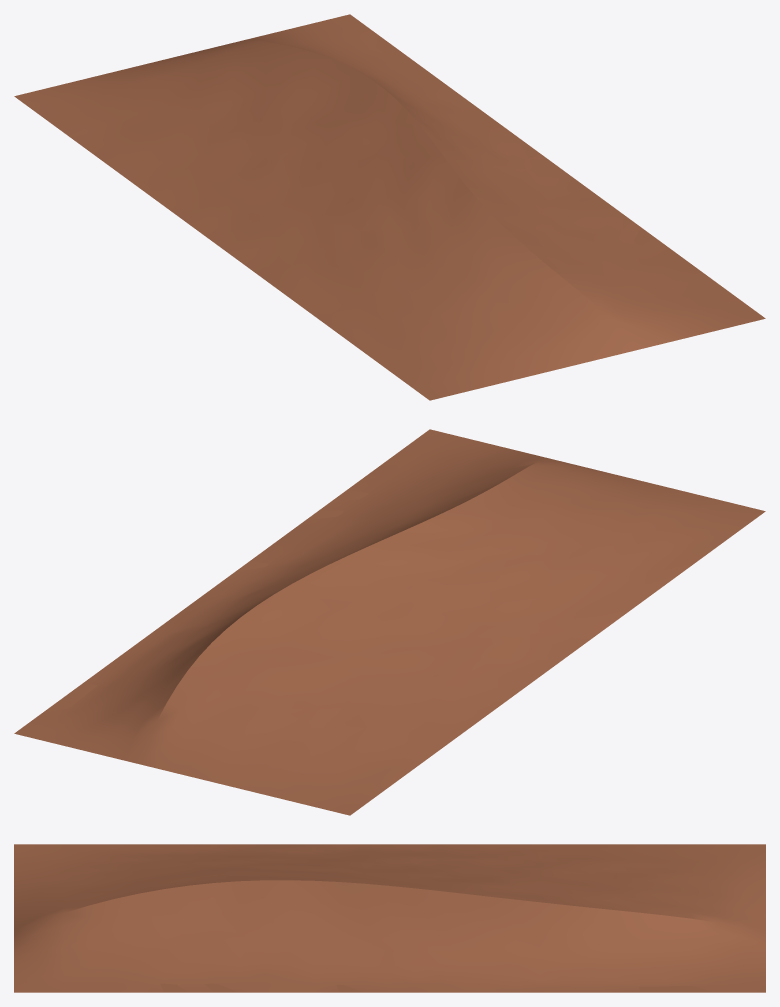
File: dune.glb
The picture shows the model from 3 angles, top to bottom: view 1: azimuth 30°, elevation 25°; view 2: azimuth 150°, elevation 25°; view 3: azimuth 270°, elevation 25°; orthographic projection. The views are drawn at different scales.
Parts seen in each view (by area): view 1: dune; view 2: dune; view 3: dune.
Part boxes in pixels (x1=…): dune: x1=14, y1=14, x2=765, y2=400; dune: x1=14, y1=429, x2=765, y2=815; dune: x1=14, y1=844, x2=765, y2=992.
Bounding box in the file's own units: 28 × 4.52 × 60.
